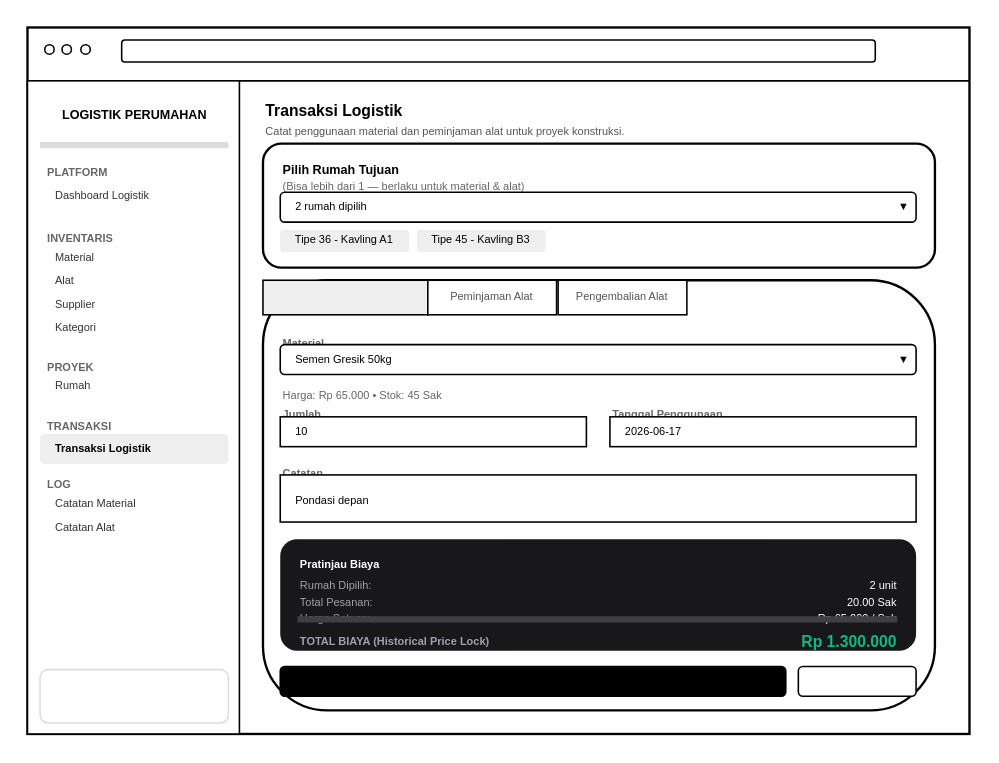
This 999x763 diagram has some shape labels left out. The shapes that lost their labels are listed below. From the top down, each one's centre as x and y in pixels, then its label:
point 497,50: http://localhost/logistik/transaksi
point 344,297: Penggunaan Material
point 133,695: Logistik User logistik@example.com
point 532,680: SIMPAN
point 856,680: Reset
